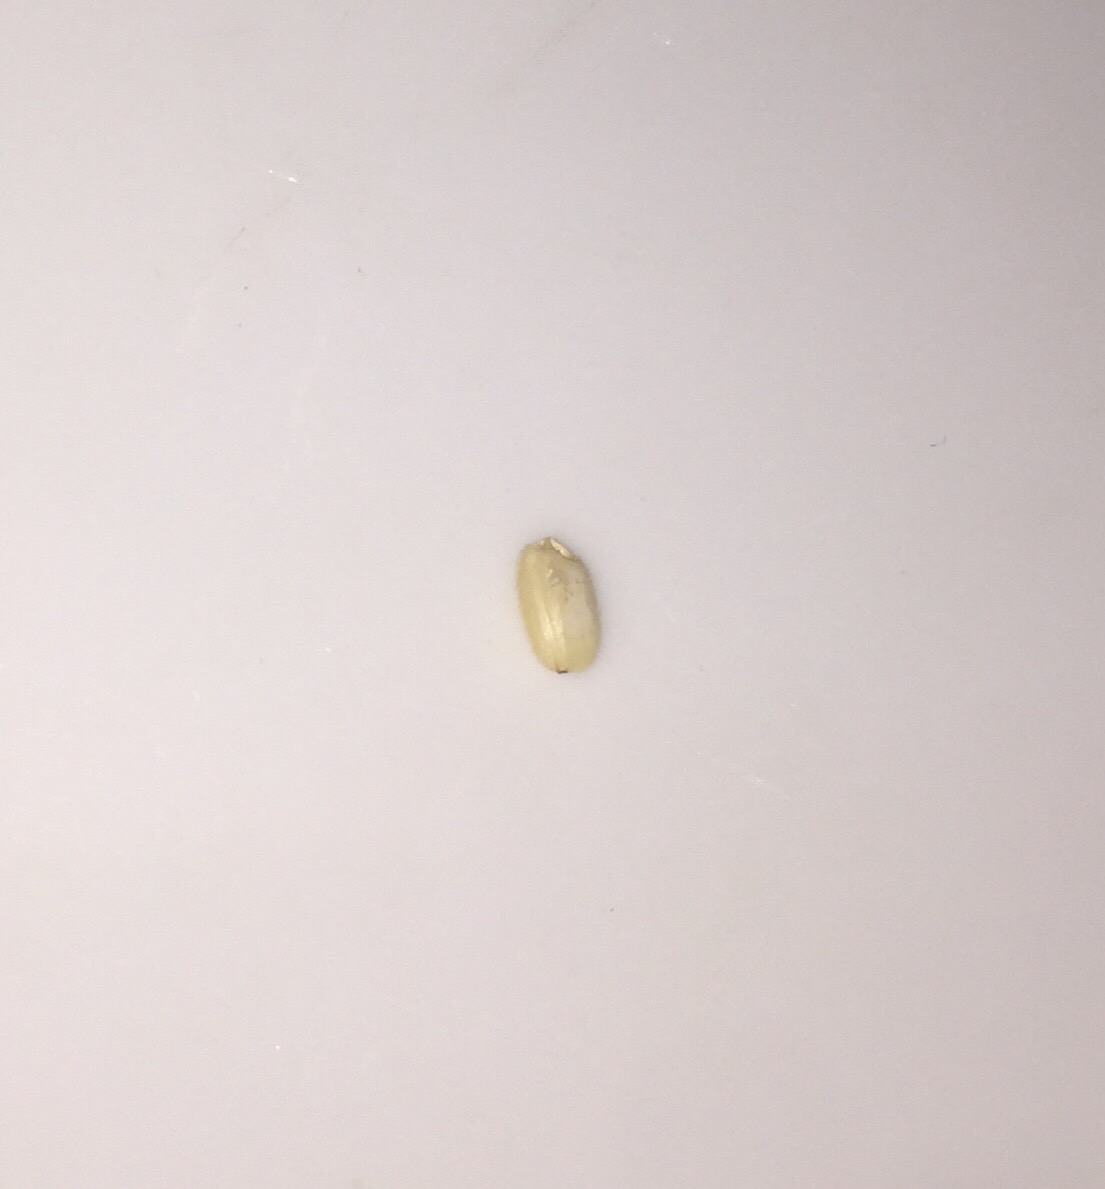Gao Lut Bac: (504, 528, 627, 688)
